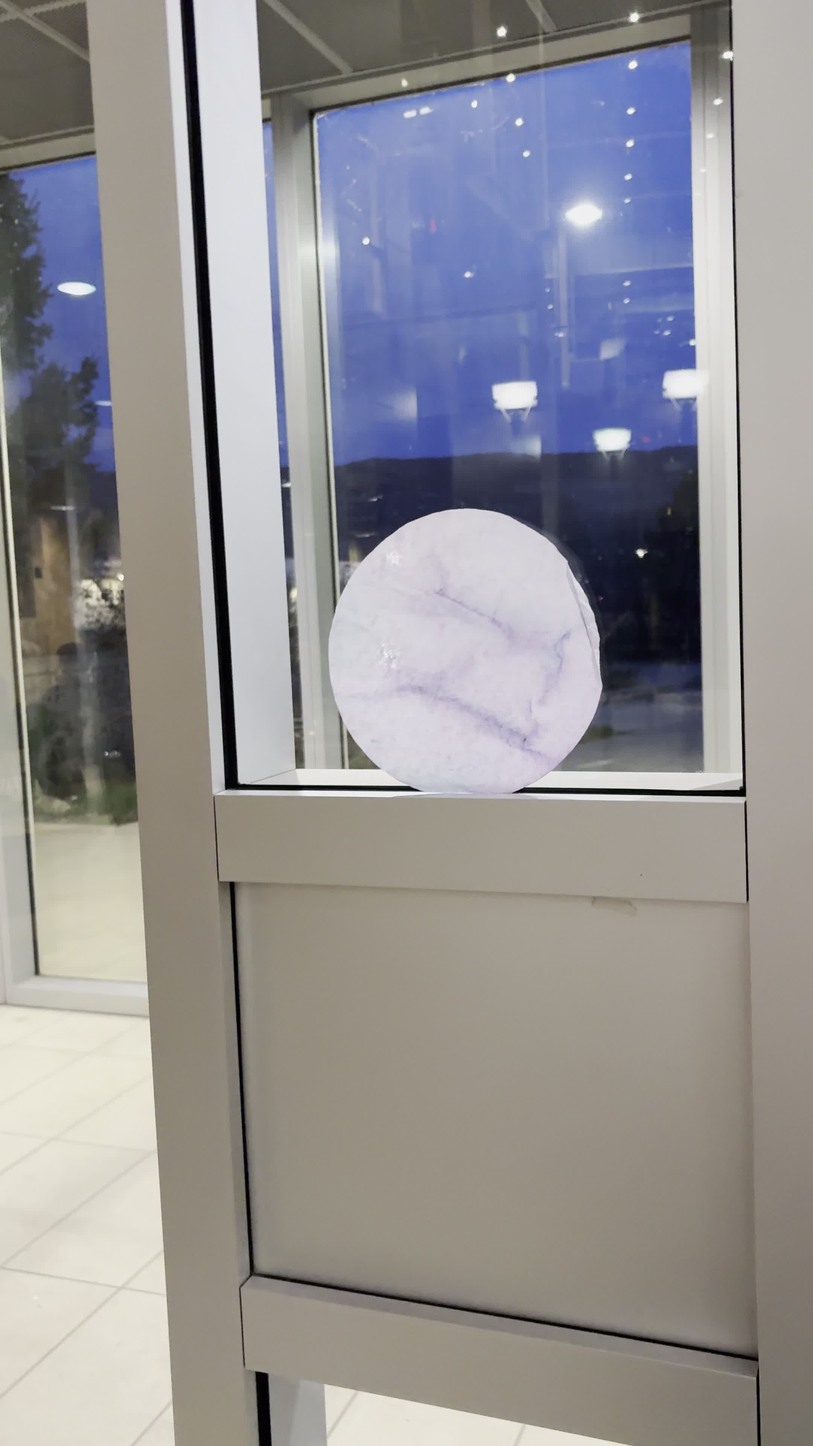Target: (327, 508, 602, 794)
